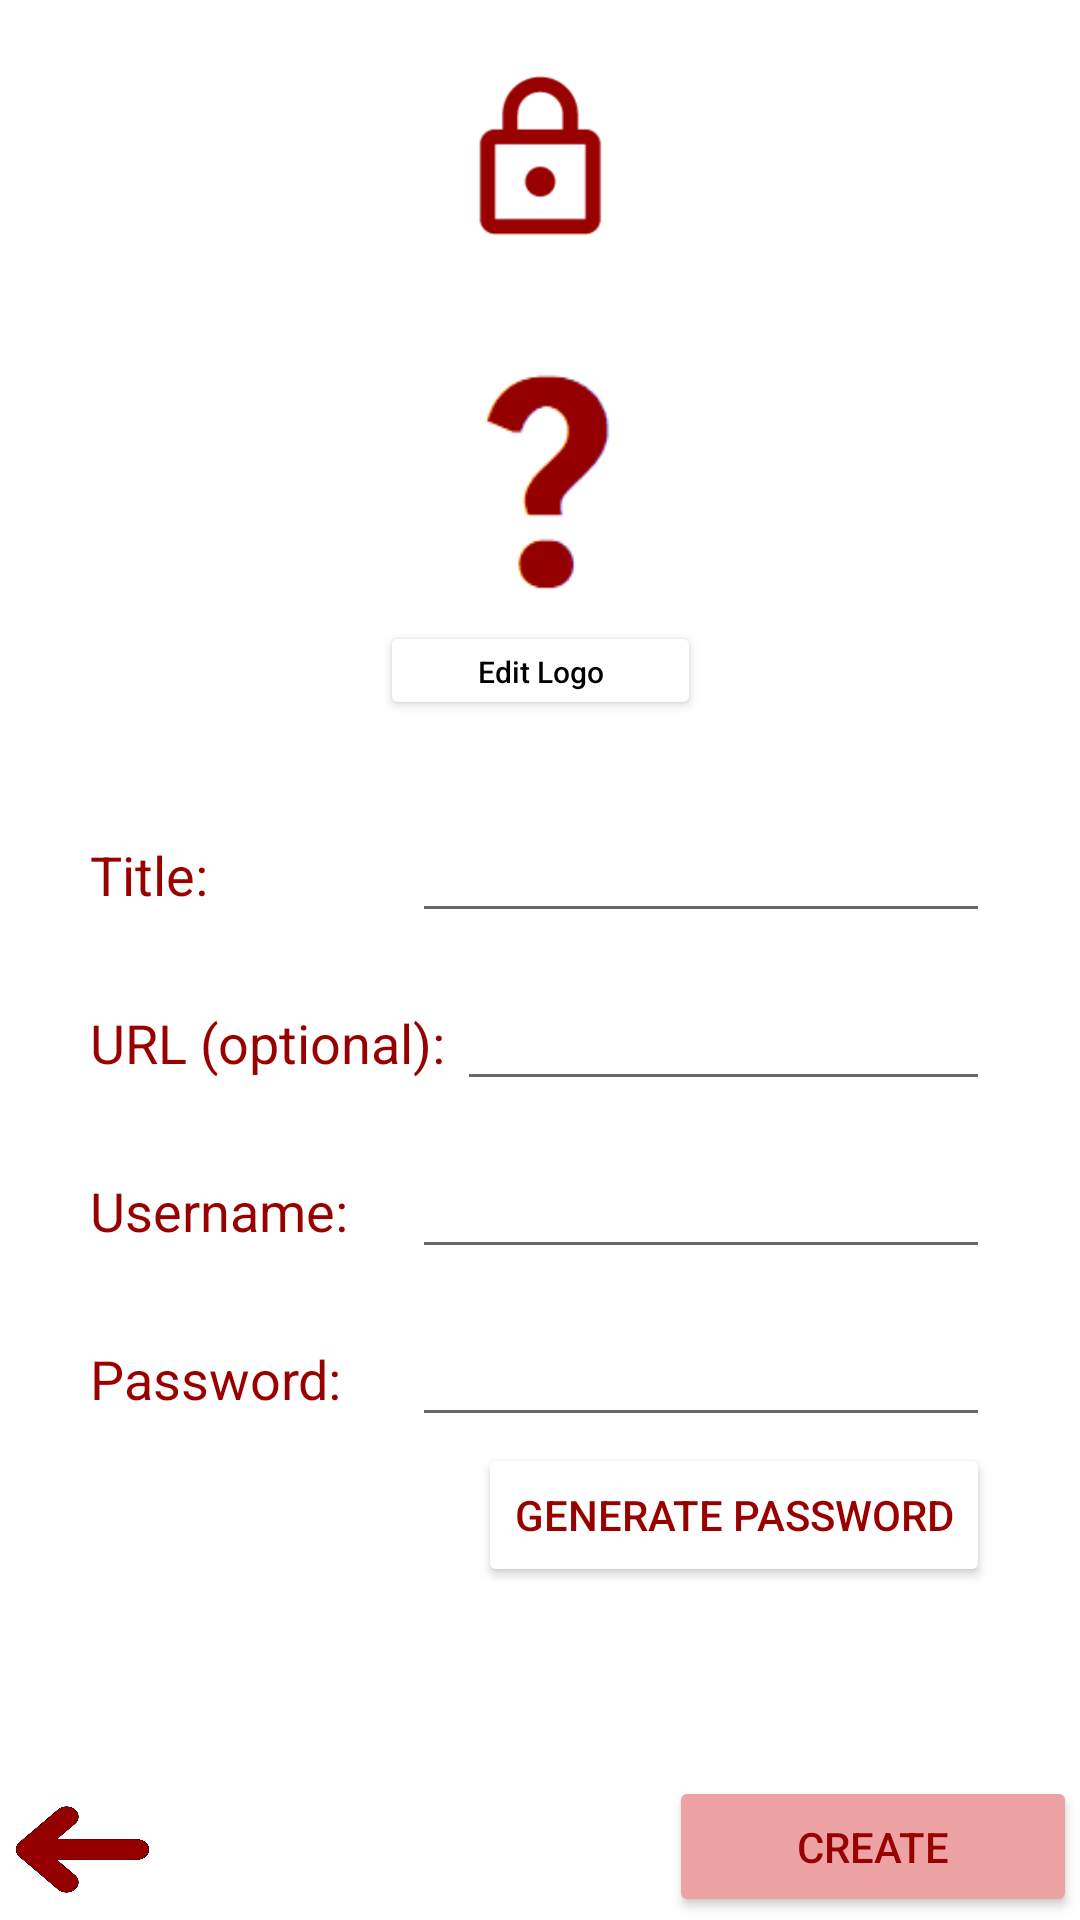

Icons on this 1080w x 1920h Android screen, each with the point to tap as (x=x, y=y):
back arrow: (x=82, y=1849)
interrogation point: (x=547, y=482)
